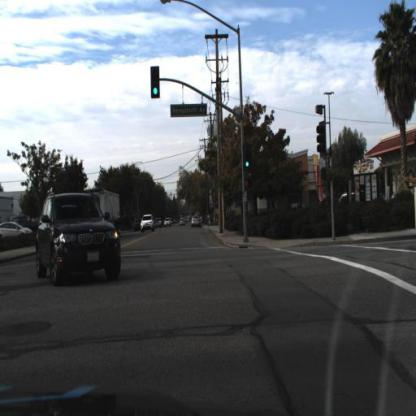car: (34, 190, 122, 289), (139, 213, 157, 233), (189, 213, 203, 231)
trafficLight-Green: (150, 65, 161, 101), (244, 144, 254, 177)
